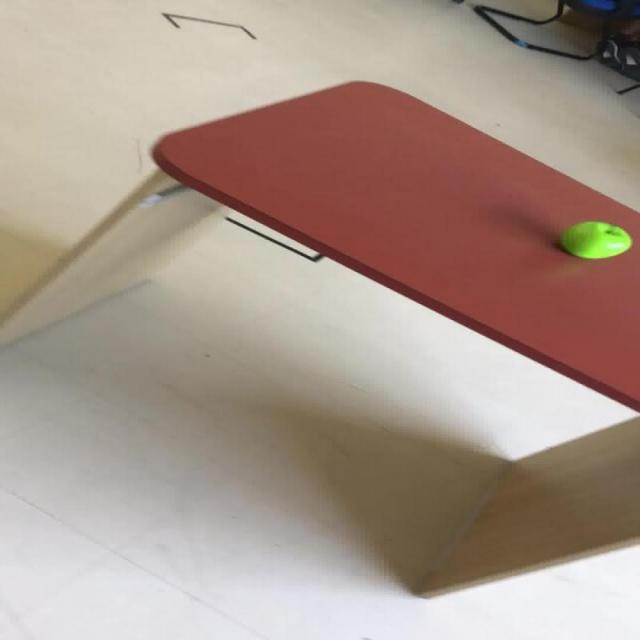Apple: (559, 220, 632, 258)
